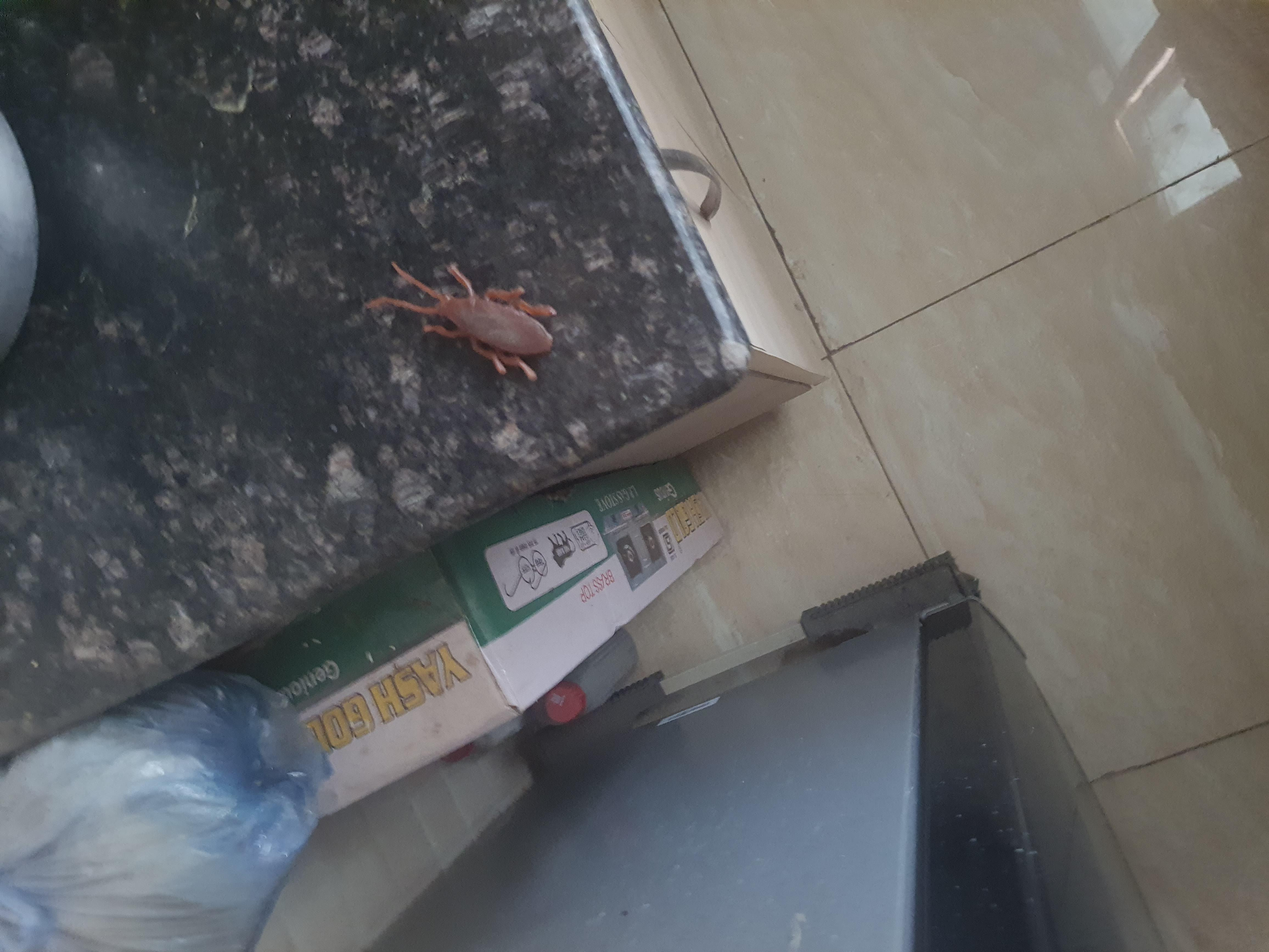cockroach: (744, 264, 930, 438)
